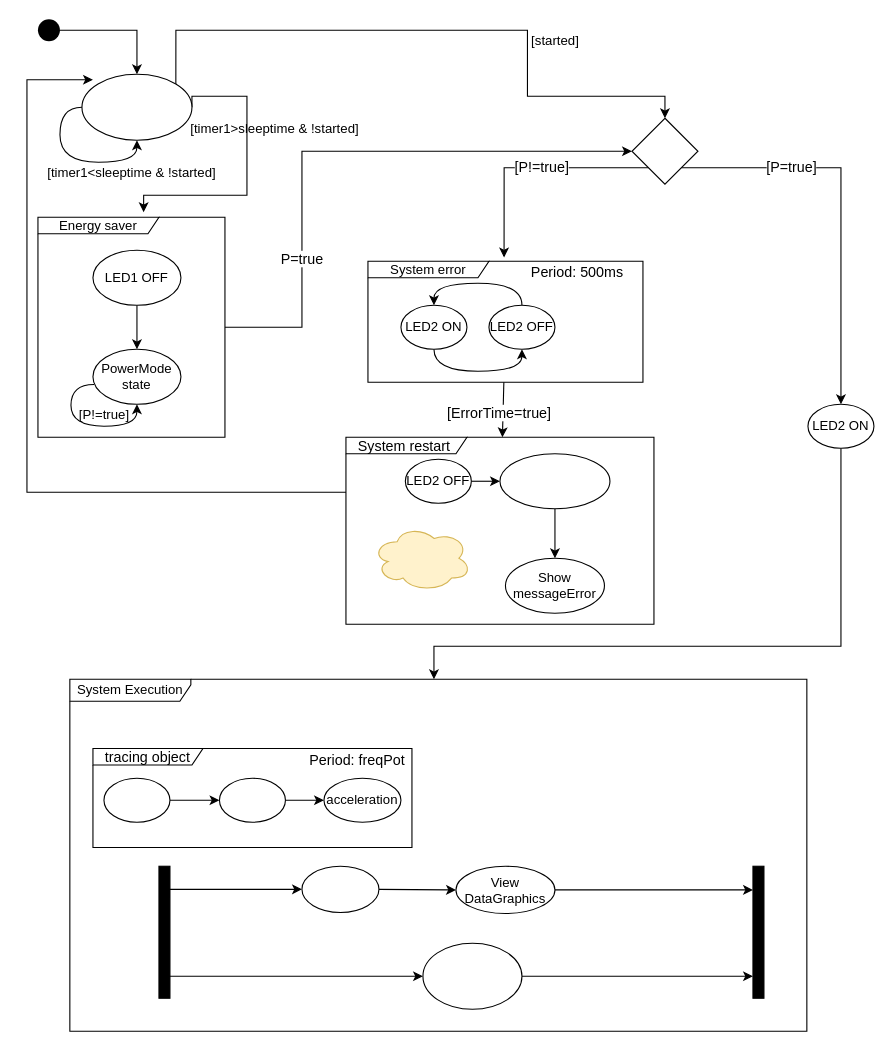
The diagram is 893 pixels wide and 1051 high, and some of its shapes have lost their labels. Each missing label, with the centre of its shape:
"LED1 ON" belongs at pixel 136 106.
"position" belongs at pixel 136 799.
"POSSIAMO NON METTERE LA FRECCIA?!" belongs at pixel 421 557.
"Send Data" belongs at pixel 340 888.
"Send messageError" belongs at pixel 554 481.
"speed" belongs at pixel 251 799.
"speedometer" belongs at pixel 472 975.
